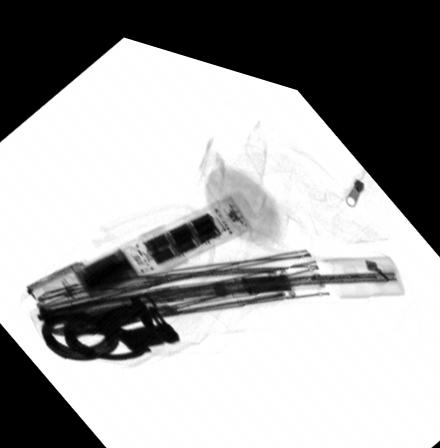Baton: (24, 180, 254, 323)
HandCuffs: (40, 284, 182, 356)
